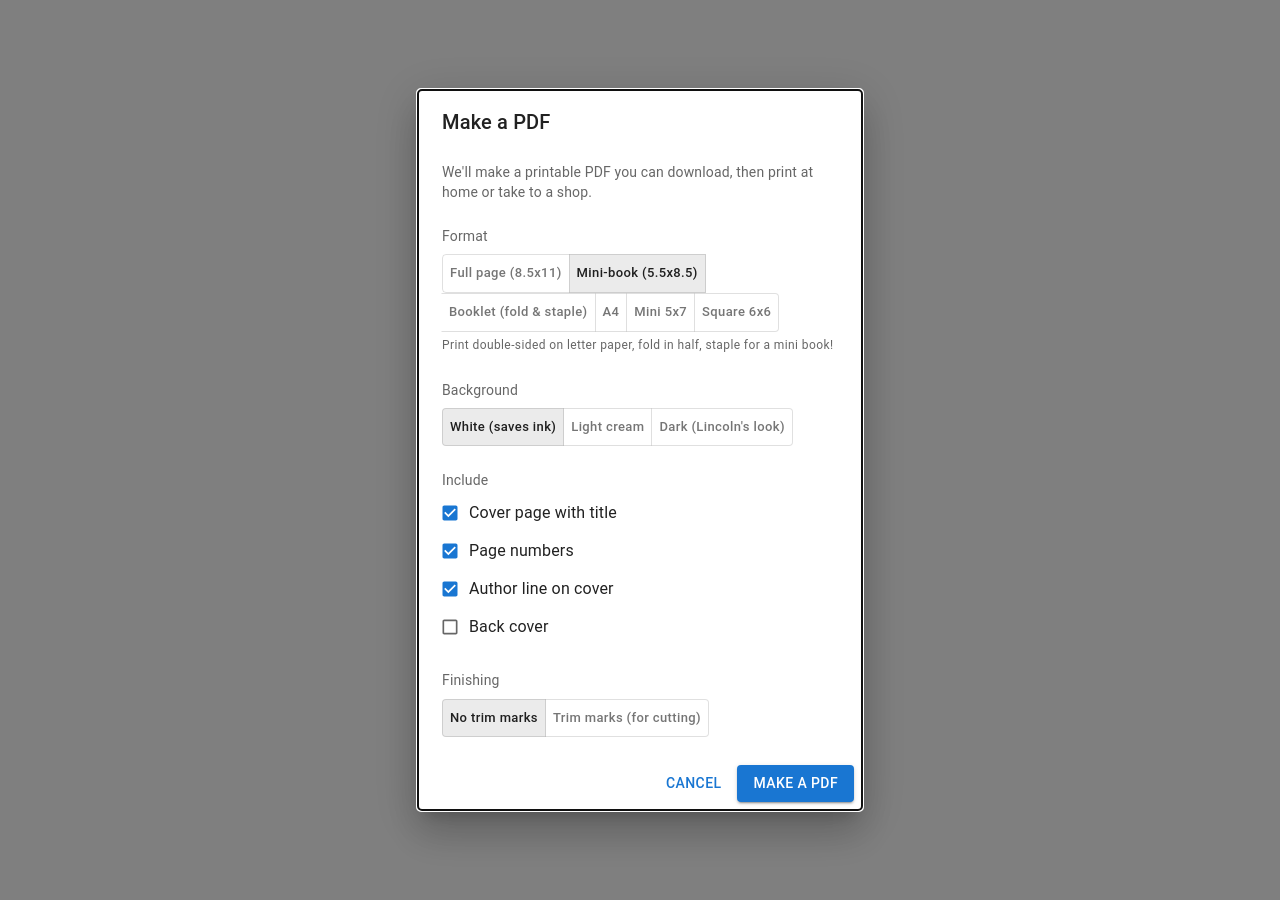
Test: PrintSettingsDialog booklet help (FEAT-185) › describes a saddle-stitched book — duplex flip, fold the stack, staple at the fold, cut on the line
Click the button "Booklet (fold & staple)" at [518, 312], box [441, 293, 596, 332]
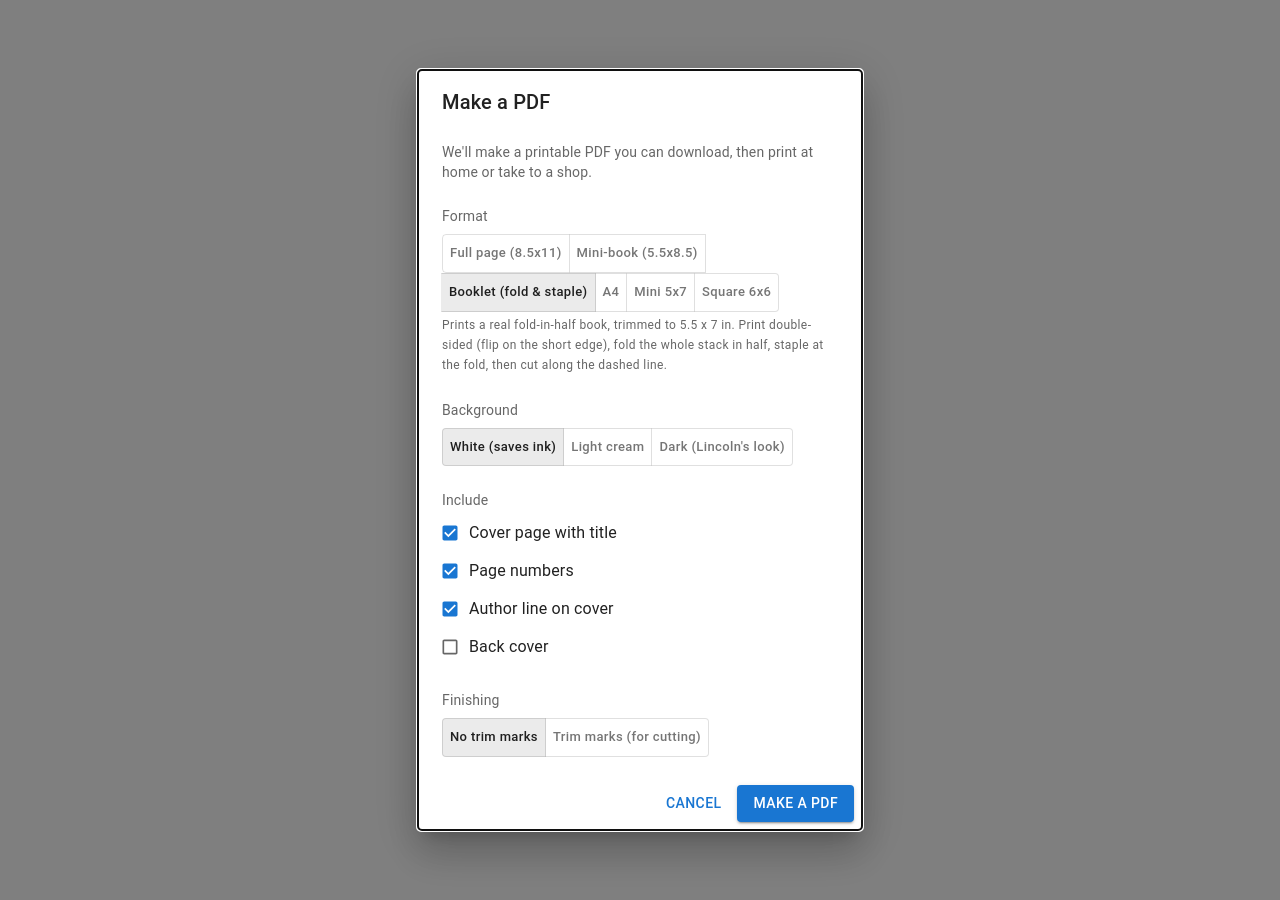
Expected: the text "fold-in-half book" shows "5.5 x 7", [442, 318, 824, 372]
Expected: the text "fold-in-half book" shows "flip on the short edge", [442, 318, 824, 372]
Expected: the text "fold-in-half book" shows "fold the whole stack", [442, 318, 824, 372]
